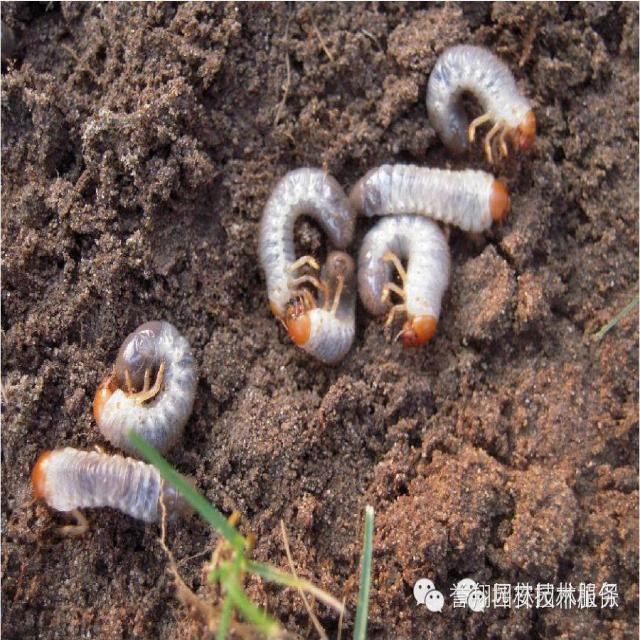Grub-Adult-: (28, 442, 202, 545), (253, 157, 355, 320), (340, 148, 514, 240), (91, 315, 198, 457), (418, 41, 535, 170), (354, 205, 450, 350), (282, 250, 357, 366)
